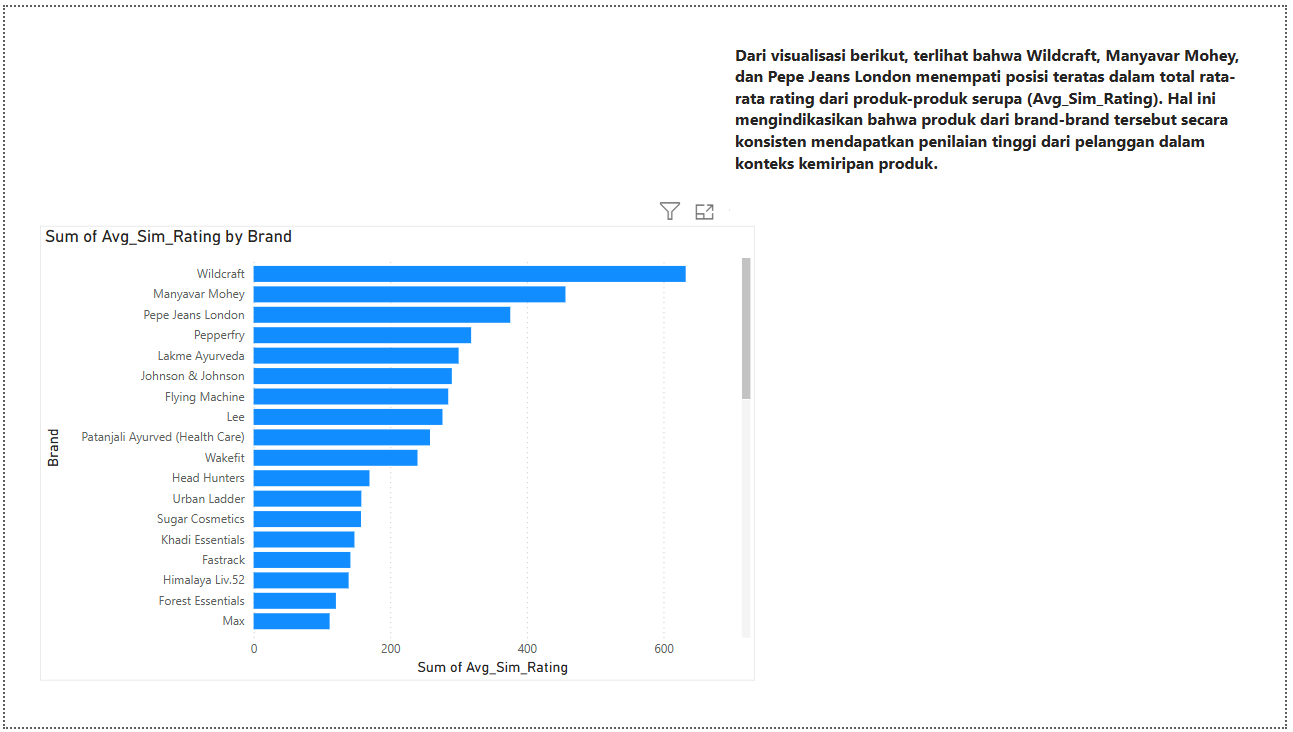

The dashboard page shown, as its layout file describes it:
{"tool":"powerbi","page":{"name":"Page 1","canvas":[1280,720],"ordinal":0},"visuals":[{"type":"barChart","fields":{"Category":["content_based_recommendation_dataset.Brand"],"Y":["Sum(content_based_recommendation_dataset.Avg_Sim_Rating)"]},"box":[35,218.3,715,455],"z":0},{"type":"textbox","box":[725,31.7,528.3,186.7],"z":1000}]}

Visuals, with their boxes in screenshot pixels (x1, y1, x2, y2), scaled from the page's 1280x720 canvas onto the 1293x732 screenshot:
barChart - content_based_recommendation_dataset.Brand x Sum(content_based_recommendation_dataset.Avg_Sim_Rating): (35,222,758,685)
textbox: (732,32,1266,222)
